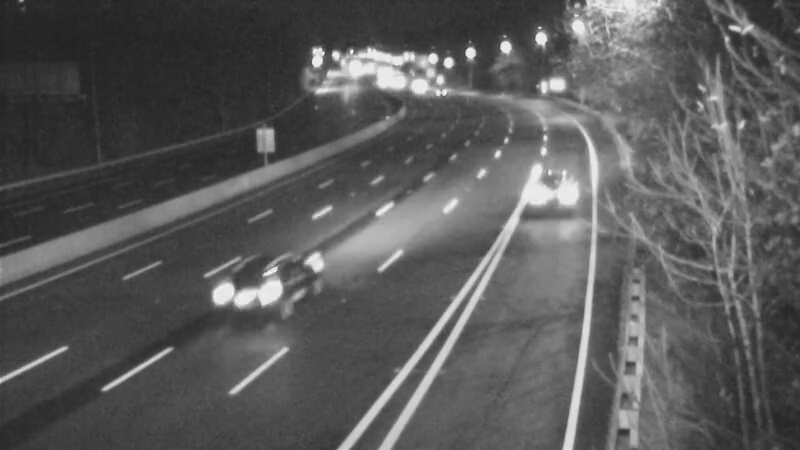vehicle: (515, 145, 595, 225), (209, 250, 289, 330), (389, 58, 439, 108), (415, 64, 465, 114)
